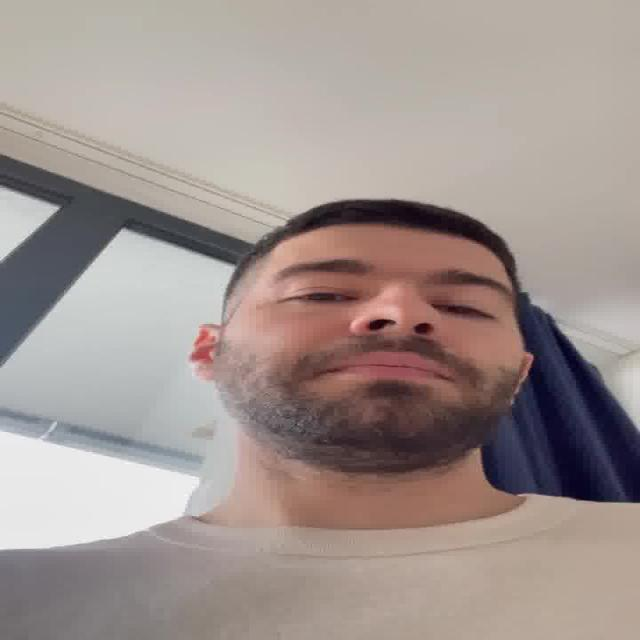earlobe: (184, 364, 217, 383), (505, 394, 520, 409)
eye: (437, 300, 500, 320), (282, 288, 355, 304)
nose: (356, 325, 439, 353)
wholeear: (187, 322, 220, 382)
